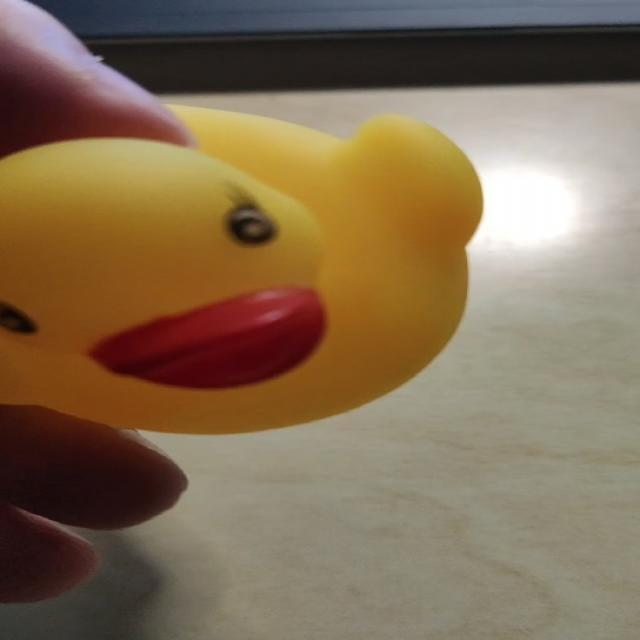rubber-duck: (0, 105, 481, 431)
